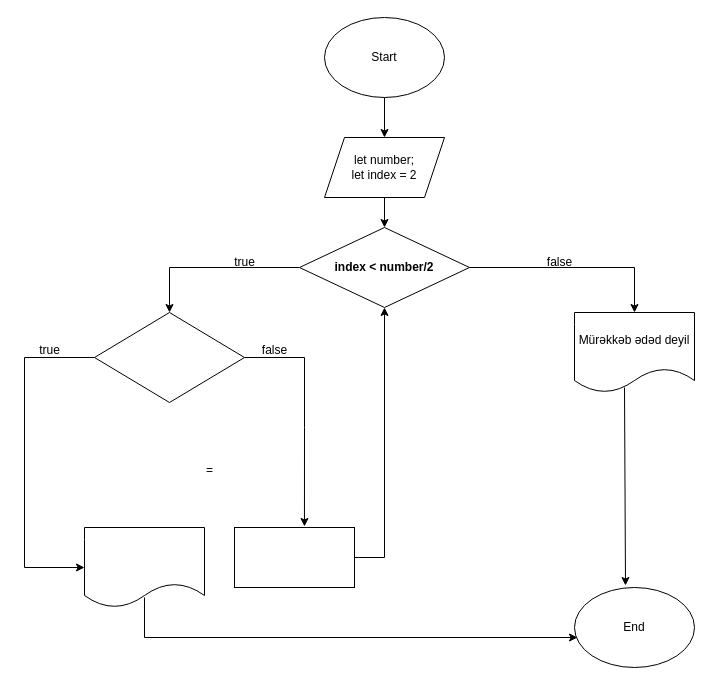
The diagram is 712 pixels wide and 685 high, and some of its shapes have lost their labels. Here are the shapes that lost their labels. From the top down, the centre of each, then its label:
At [169,357]: "number % index ===0".
At [144,567]: "mürəkkəb ədəddir".
At [294,557]: "index++".
